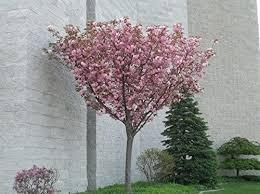tree: (43, 16, 222, 191), (162, 80, 220, 185), (217, 134, 259, 180)
